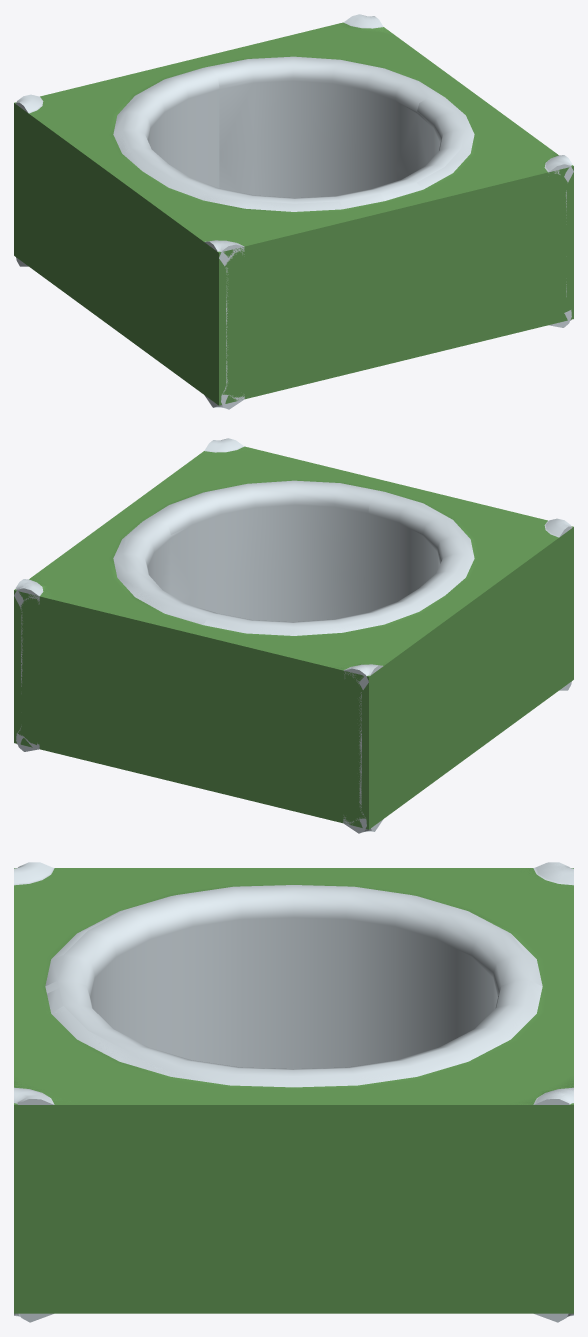
Rendered from HoleBigger (1).fbx.
The picture shows the model from 3 angles, top to bottom: view 1: azimuth 30°, elevation 25°; view 2: azimuth 150°, elevation 25°; view 3: azimuth 270°, elevation 25°; orthographic projection. The views are drawn at different scales.
Parts seen in each view (by area): view 1: PlatBorderInwardsHole2S2, PlatBorderInwardsHole2S2.001, PlatBorderInwardsHole2S2.002, PlatBorderInwardsHole2S2.006, PlatBorderInwardsHole2S2.003; view 2: PlatBorderInwardsHole2S2, PlatBorderInwardsHole2S2.001, PlatBorderInwardsHole2S2.002, PlatBorderInwardsHole2S2.006, PlatBorderInwardsHole2S2.003; view 3: PlatBorderInwardsHole2S2.001, PlatBorderInwardsHole2S2, PlatBorderInwardsHole2S2.006, PlatBorderInwardsHole2S2.002.
Part boxes in pixels (<box>): PlatBorderInwardsHole2S2: <box>14,14,573,409</box>; PlatBorderInwardsHole2S2.001: <box>91,23,558,405</box>; PlatBorderInwardsHole2S2.002: <box>16,59,573,405</box>; PlatBorderInwardsHole2S2.006: <box>15,14,573,402</box>; PlatBorderInwardsHole2S2.003: <box>92,151,440,355</box>; PlatBorderInwardsHole2S2: <box>14,446,572,829</box>; PlatBorderInwardsHole2S2.001: <box>14,448,573,785</box>; PlatBorderInwardsHole2S2.002: <box>96,438,573,833</box>; PlatBorderInwardsHole2S2.006: <box>16,468,468,833</box>; PlatBorderInwardsHole2S2.003: <box>191,478,465,772</box>; PlatBorderInwardsHole2S2.001: <box>14,868,573,1313</box>; PlatBorderInwardsHole2S2: <box>14,862,573,1322</box>; PlatBorderInwardsHole2S2.006: <box>45,862,573,1321</box>; PlatBorderInwardsHole2S2.002: <box>14,863,573,1322</box>.
Size of the model in its own units: 167 by 73.61 by 167.
